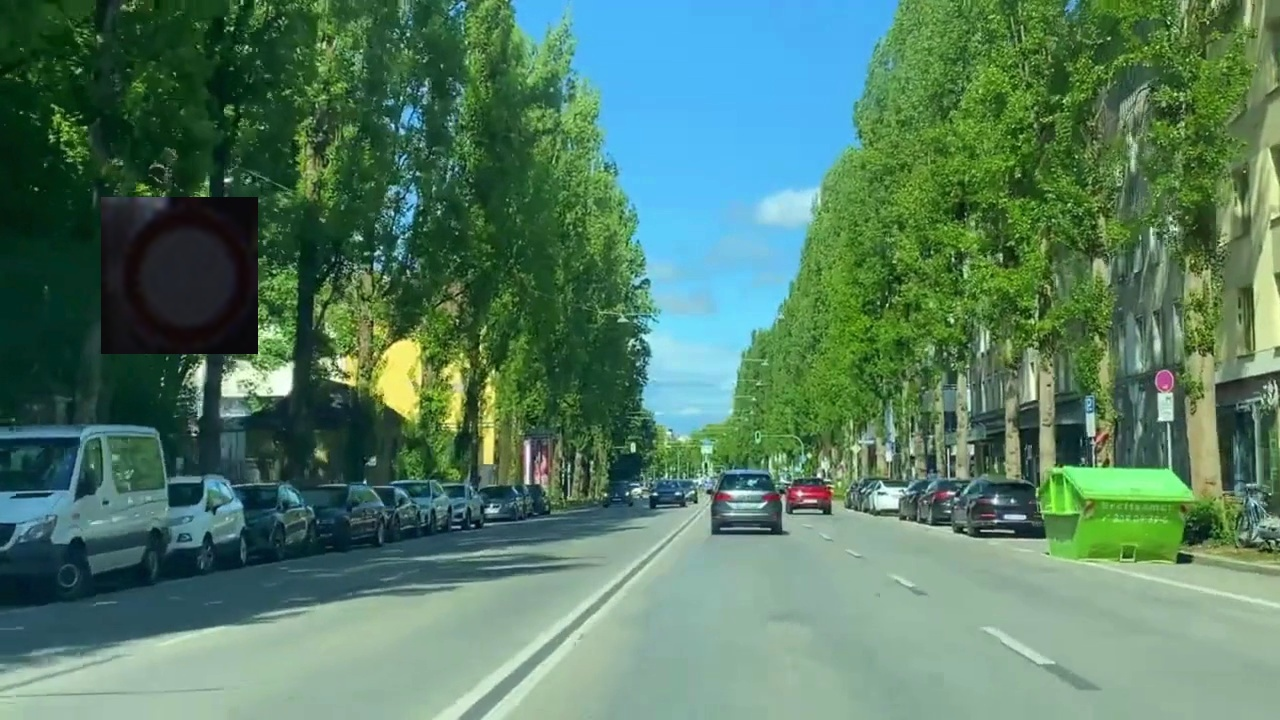No vehicles: (101, 197, 258, 354)
